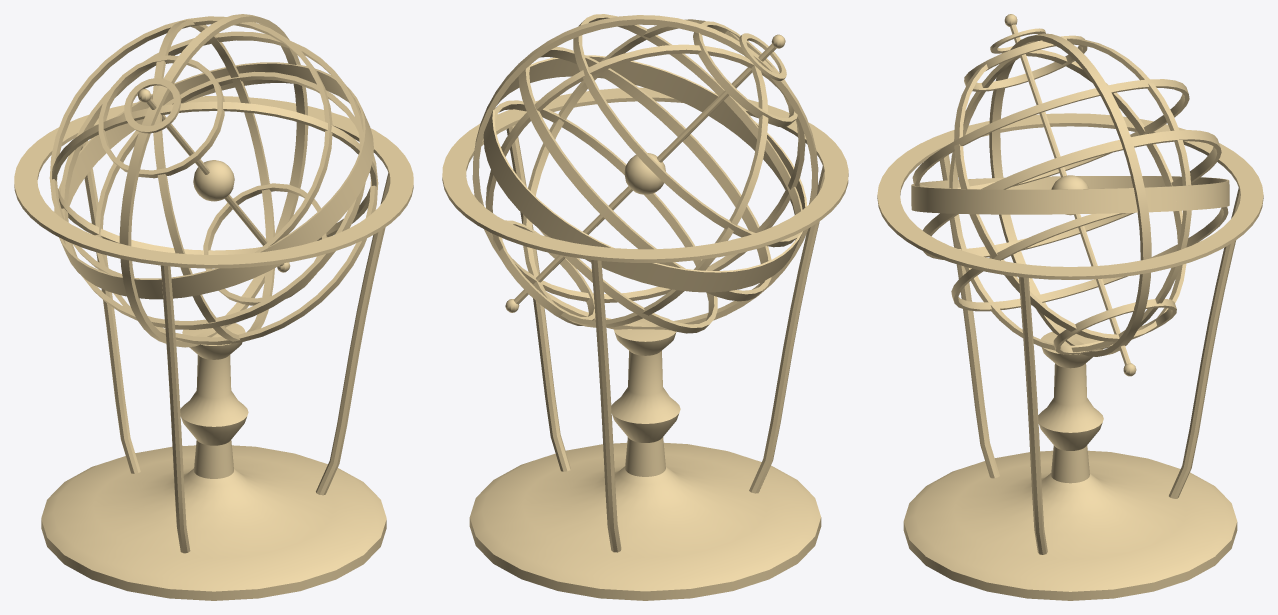
Rendered from businessman_armillary.glb.
3 renders of one model, left to right at view 1: azimuth 30°, elevation 25°; view 2: azimuth 150°, elevation 25°; view 3: azimuth 270°, elevation 25°, orthographic. The views are drawn at different scales.
Visible parts, largest first — view 1: SO_Int_Armillary_M; view 2: SO_Int_Armillary_M; view 3: SO_Int_Armillary_M.
Boxes of the visible parts, x1=… form: SO_Int_Armillary_M: x1=14, y1=14, x2=413, y2=600; SO_Int_Armillary_M: x1=442, y1=14, x2=848, y2=600; SO_Int_Armillary_M: x1=877, y1=14, x2=1263, y2=600.
Bounding box in the file's own units: 0.243 × 0.3359 × 0.243.
